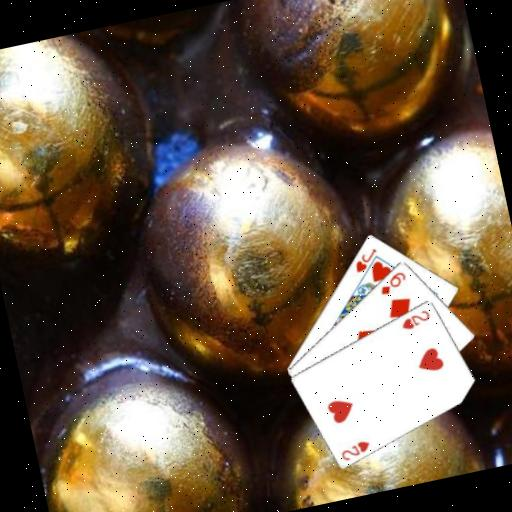2H: (336, 436, 374, 463), (396, 305, 433, 332)
6D: (374, 267, 410, 297)
JH: (349, 244, 382, 274)
